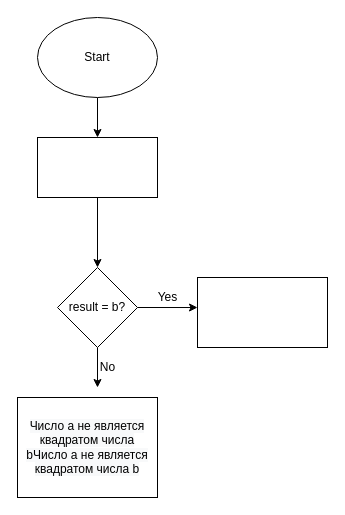
The diagram is 345 pixels wide and 515 high, and some of its shapes have lost their labels. Here are the shapes that lost their labels. From the top down, the centre of each, then its label:
the point at 97,167: a=25, b=5; result = b *b;
the point at 262,312: число а является квадратом числа b число а является квадратом числа b
